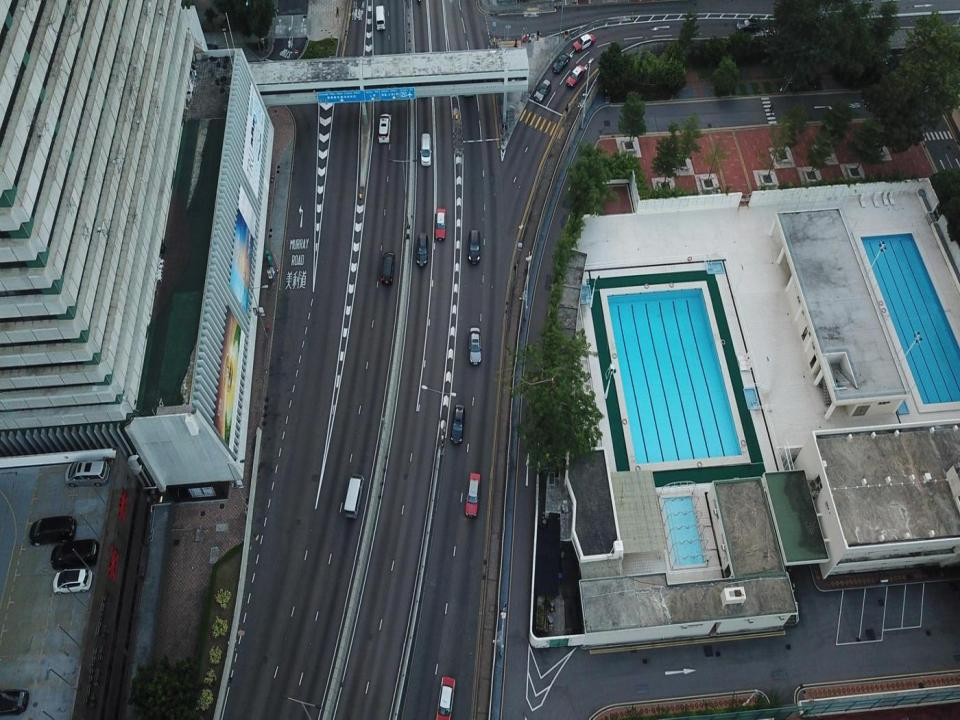car: (28, 516, 76, 546), (50, 539, 98, 567), (66, 461, 110, 487), (52, 568, 92, 593), (0, 690, 30, 716), (436, 675, 454, 718), (465, 472, 480, 516), (450, 404, 465, 444), (469, 327, 481, 365), (566, 64, 586, 86), (573, 32, 595, 51), (468, 228, 480, 262), (416, 233, 428, 266), (378, 114, 391, 144), (534, 80, 551, 102), (434, 209, 446, 240), (737, 18, 759, 33), (554, 52, 569, 72), (202, 43, 218, 53)
van: (344, 474, 364, 517), (420, 132, 431, 166), (382, 252, 394, 283), (376, 6, 385, 30)
